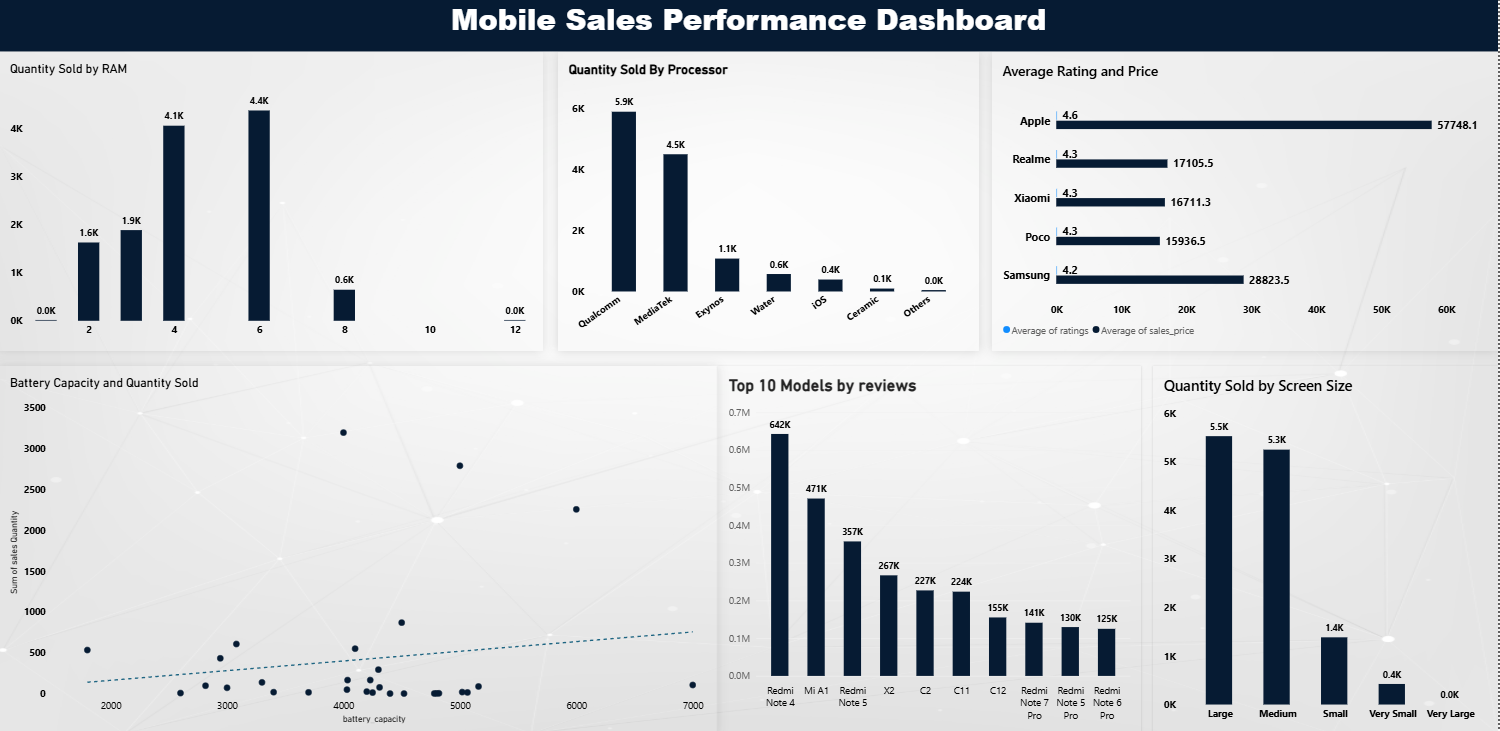

The dashboard page shown, as its layout file describes it:
{"tool":"powerbi","page":{"name":"Customer & Market Insights","canvas":[2200,1080],"ordinal":1},"visuals":[{"type":"clusteredColumnChart","title":"Quantity Sold by RAM","fields":{"Category":["Mobile dataset.RAM"],"Y":["Sum(Mobile dataset.sales  Quantity)"]},"box":[0,78.9,797.9,438.4],"z":0},{"type":"scatterChart","title":"Battery Capacity and Quantity Sold","fields":{"X":["Mobile dataset.battery_capacity"],"Y":["Sum(Mobile dataset.sales  Quantity)"]},"box":[0,539.3,1054.7,541.1],"z":1000},{"type":"clusteredBarChart","title":"Average Rating and Price","fields":{"Category":["Mobile dataset.brand"],"Y":["Avg(Mobile dataset.ratings)","Avg(Mobile dataset.sales_price)"]},"box":[1456.4,78.9,742.9,438.4],"z":2000},{"type":"clusteredColumnChart","title":"Quantity Sold By Processor","fields":{"Category":["Mobile dataset.processor"],"Y":["Sum(Mobile dataset.sales  Quantity)"]},"box":[819.9,78.9,618.1,438.4],"z":4000},{"type":"clusteredColumnChart","title":"Quantity Sold by Screen Size","fields":{"Category":["Mobile dataset.screen_size"],"Y":["Sum(Mobile dataset.sales  Quantity)"]},"box":[1693,539.3,508.1,541.1],"z":5000},{"type":"textbox","box":[0,0,2200,78.3],"z":6000},{"type":"clusteredColumnChart","title":"Top 10 Models by reviews","fields":{"Category":["Mobile dataset.model"],"Y":["Max(Mobile dataset.num_of_ratings)"]},"box":[1054.7,539.3,621.8,541.1],"z":6001}]}

Visuals, with their boxes in screenshot pixels (x1, y1, x2, y2), scaled from the page's 2200x1080 canvas onto the 1500x731 screenshot:
"Quantity Sold by RAM" clusteredColumnChart: {"x1": 0, "y1": 53, "x2": 544, "y2": 350}
"Battery Capacity and Quantity Sold" scatterChart: {"x1": 0, "y1": 365, "x2": 719, "y2": 730}
"Average Rating and Price" clusteredBarChart: {"x1": 993, "y1": 53, "x2": 1499, "y2": 350}
"Quantity Sold By Processor" clusteredColumnChart: {"x1": 559, "y1": 53, "x2": 980, "y2": 350}
"Quantity Sold by Screen Size" clusteredColumnChart: {"x1": 1154, "y1": 365, "x2": 1499, "y2": 730}
textbox: {"x1": 0, "y1": 0, "x2": 1499, "y2": 53}
"Top 10 Models by reviews" clusteredColumnChart: {"x1": 719, "y1": 365, "x2": 1143, "y2": 730}
